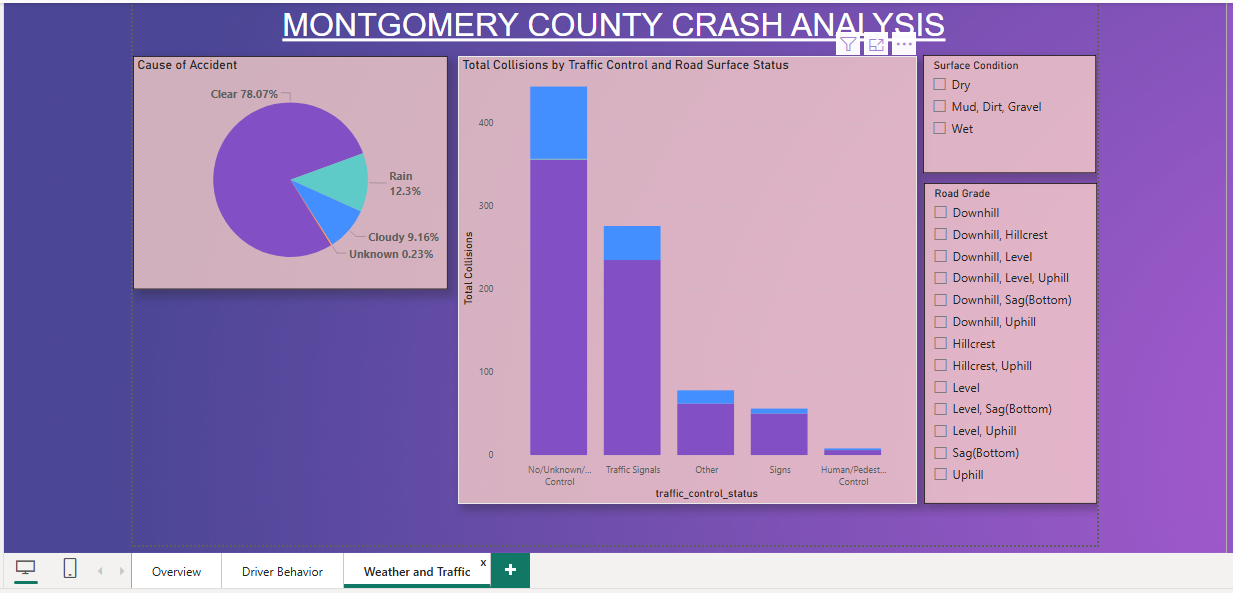

This screenshot's page, from the dashboard's own definition file:
{"tool":"powerbi","page":{"name":"Weather and Traffic","canvas":[1280,720],"ordinal":2},"visuals":[{"type":"pieChart","title":"Cause of Accident","fields":{"Y":["_Measures.Total Collisions"],"Category":["Weather.weather_status"]},"box":[0,70.4,418.5,309.5],"z":0},{"type":"textbox","box":[150.7,0,977.6,84.9],"z":1000},{"type":"lineStackedColumnComboChart","title":"Total Collisions by Traffic Control and Road Surface Status","fields":{"Category":["Traffic Control.traffic_control_status"],"Y":["_Measures.Total Collisions"],"Series":["Surface Condition.surface_condition_status"]},"box":[431.7,70.4,609.7,595.1],"z":2000},{"type":"slicer","fields":{"Values":["Surface Condition.surface_condition_status"]},"box":[1049.4,69.1,229.8,156.8],"z":3000},{"type":"slicer","fields":{"Values":["Road Grade.road_grade_status"]},"box":[1050.8,239.1,229.8,426.4],"z":4000}]}

Visuals, with their boxes on the page's 1280x720 design canvas (x1, y1, x2, y2). These are canvas units, not pixel positions in the 1233x593 screenshot, which may show the page scaled, cropped or inside an application window:
"Cause of Accident" pieChart: bbox(0, 70, 418, 380)
textbox: bbox(151, 0, 1128, 85)
"Total Collisions by Traffic Control and Road Surface Status" lineStackedColumnComboChart: bbox(432, 70, 1041, 666)
slicer - Surface Condition.surface_condition_status: bbox(1049, 69, 1279, 226)
slicer - Road Grade.road_grade_status: bbox(1051, 239, 1281, 666)
